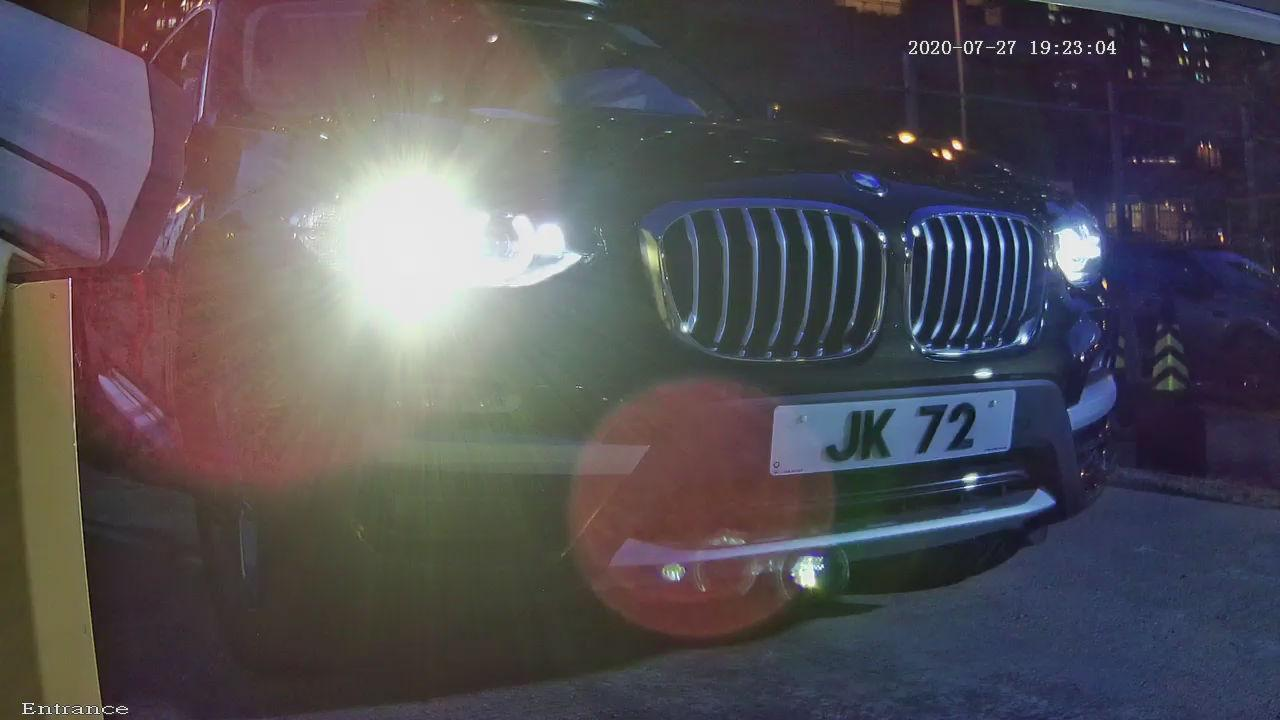privatecar: (149, 7, 1098, 659)
